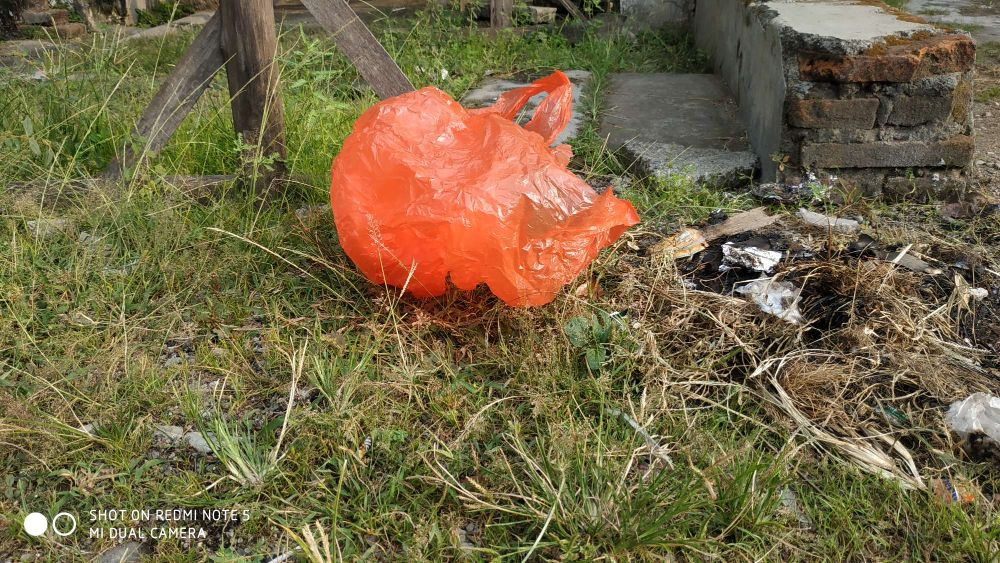plastik: (311, 69, 658, 295)
